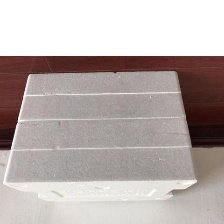foam_box: (1, 66, 203, 207)
